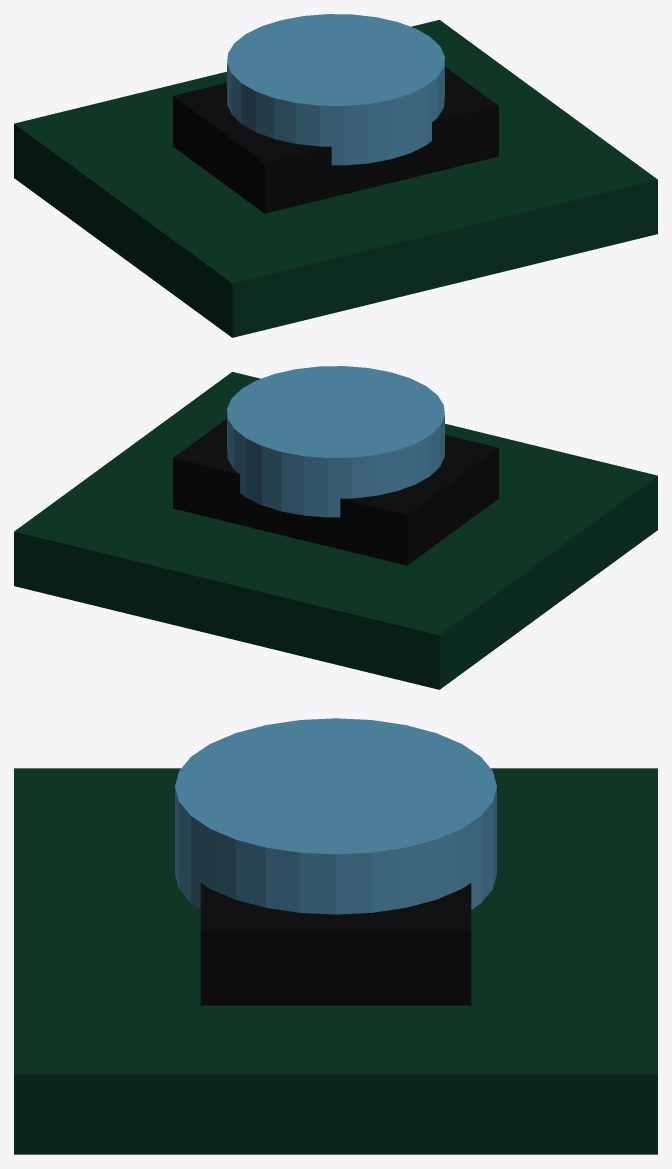
File: 37_L96_S3_Sensor.fbx
3 renders of one model, top to bottom at view 1: azimuth 30°, elevation 25°; view 2: azimuth 150°, elevation 25°; view 3: azimuth 270°, elevation 25°, orthographic. The views are drawn at different scales.
Parts seen in each view (by area): view 1: S3_000_Mini_Module_PCB, S3_006_Photodiode_Lens, S3_001_Sensor_Interface_Package; view 2: S3_000_Mini_Module_PCB, S3_006_Photodiode_Lens, S3_001_Sensor_Interface_Package; view 3: S3_000_Mini_Module_PCB, S3_006_Photodiode_Lens, S3_001_Sensor_Interface_Package.
Boxes of the visible parts, x1,y1,x2,y2 form: S3_000_Mini_Module_PCB: (14, 20, 657, 337); S3_006_Photodiode_Lens: (227, 14, 444, 165); S3_001_Sensor_Interface_Package: (173, 67, 498, 213); S3_000_Mini_Module_PCB: (14, 372, 657, 689); S3_006_Photodiode_Lens: (227, 366, 444, 517); S3_001_Sensor_Interface_Package: (173, 419, 498, 565); S3_000_Mini_Module_PCB: (14, 768, 657, 1154); S3_006_Photodiode_Lens: (175, 718, 496, 914); S3_001_Sensor_Interface_Package: (200, 883, 471, 1005).
Bounding box in the file's own units: 0.009 × 0.00337 × 0.008.
